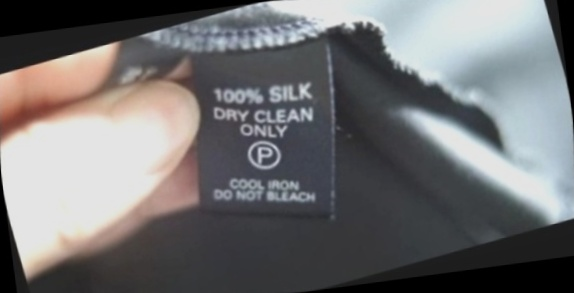dry_clean_any_solvent_except_trichloroethylene: (236, 125, 295, 183)
